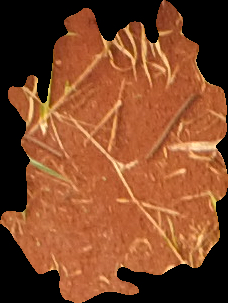soil: (3, 2, 227, 301)
